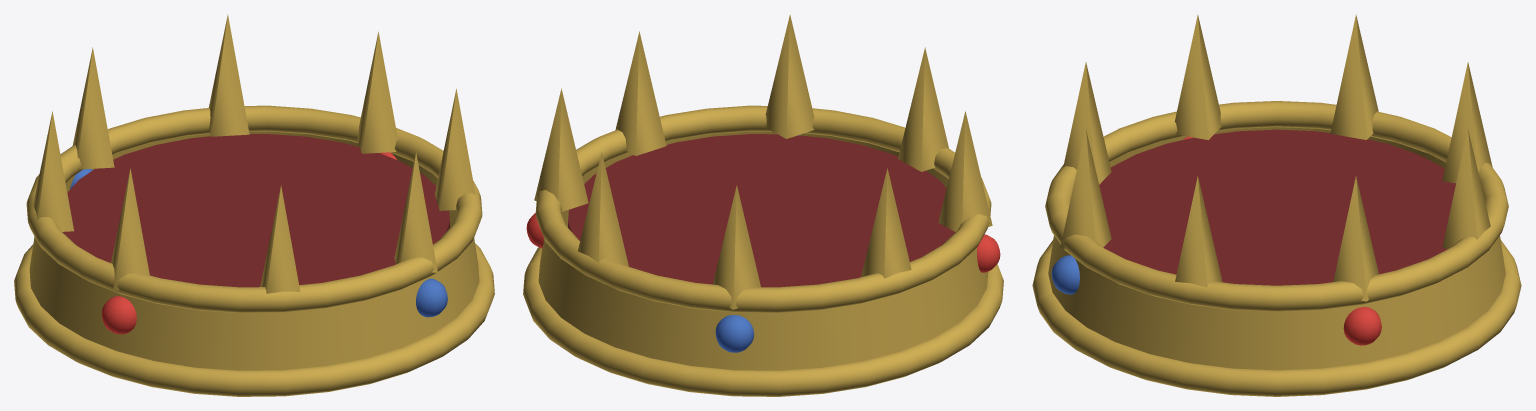
The model's file is crown.glb.
The picture shows the model from 3 angles, left to right: view 1: azimuth 30°, elevation 25°; view 2: azimuth 150°, elevation 25°; view 3: azimuth 270°, elevation 25°; orthographic projection.
Bounding box in the file's own units: 1.23 × 0.5633 × 1.23.
